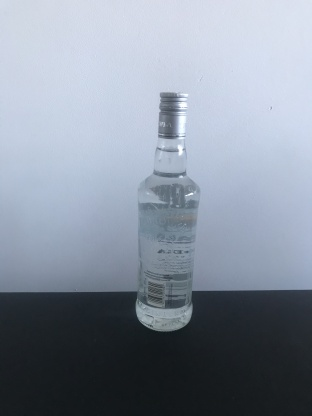nakretka: (156, 90, 189, 142)
